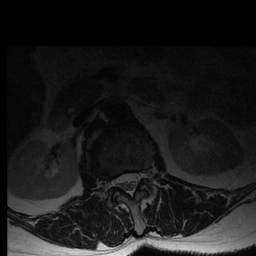CCS_normal: (125, 165, 134, 201)
LFS_normal: (141, 165, 148, 185)
LLS_normal: (134, 166, 141, 191)
RFS_stenosis: (107, 173, 116, 193)
RLS_normal: (115, 169, 125, 194)
